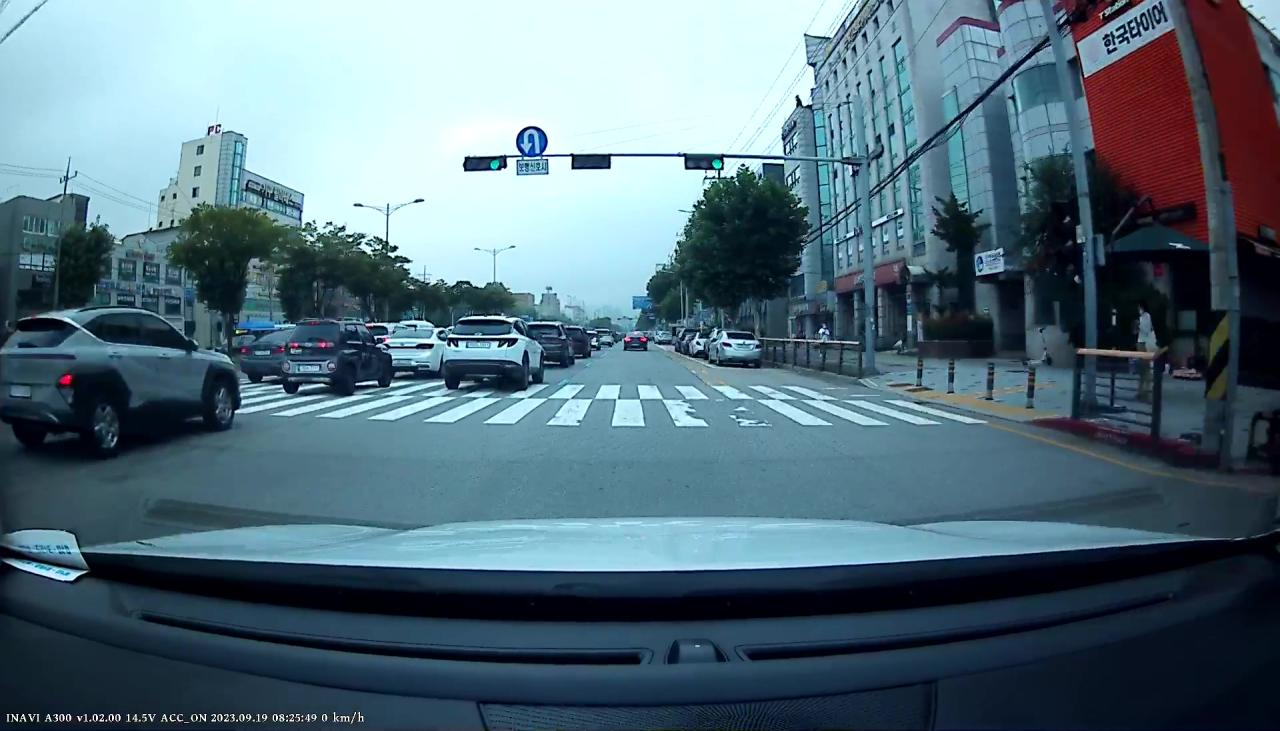Green Light: (487, 157, 501, 171), (711, 157, 723, 170)
